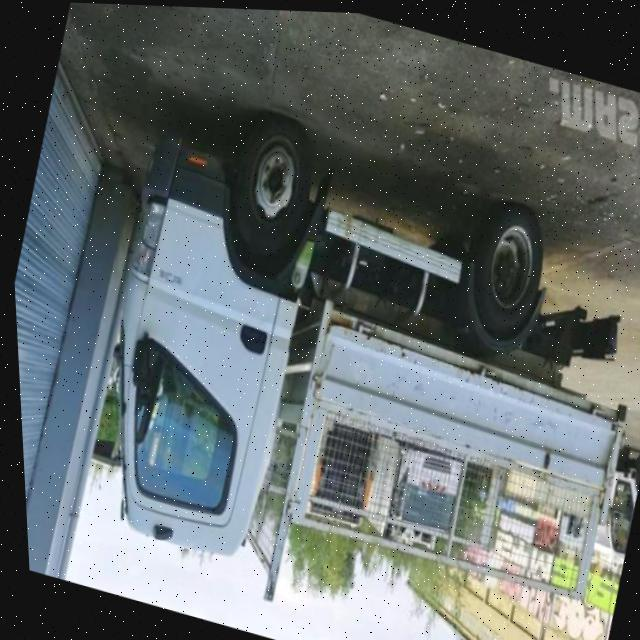truck: (42, 77, 640, 640)
